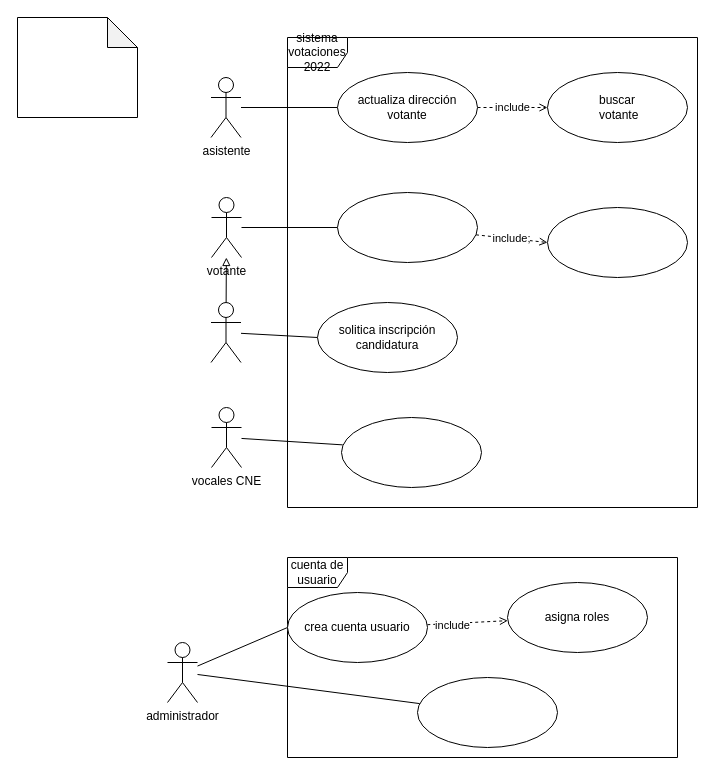
This 715x775 diagram has some shape labels left out. Each missing label, with the centre of its shape:
"candidato" goes at [225,332].
"dar de baja cuenta" goes at [487,712].
"Edwin Renè Guamàn Quiche" goes at [77,67].
"login" goes at [617,242].
"registran movimientos" goes at [411,452].
"votar" goes at [407,227].
